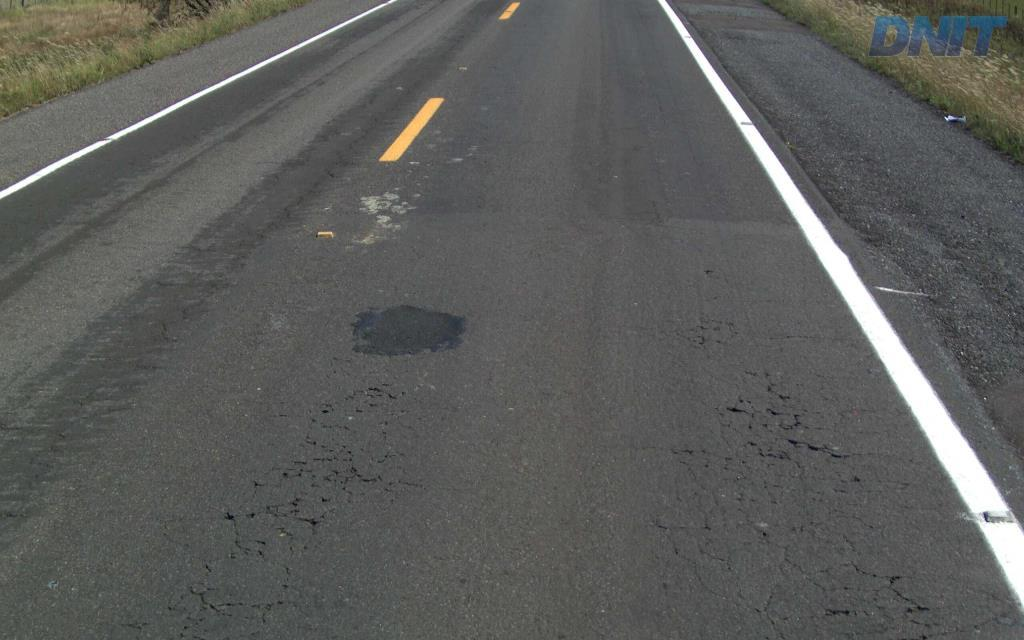crack: (757, 434, 850, 461)
